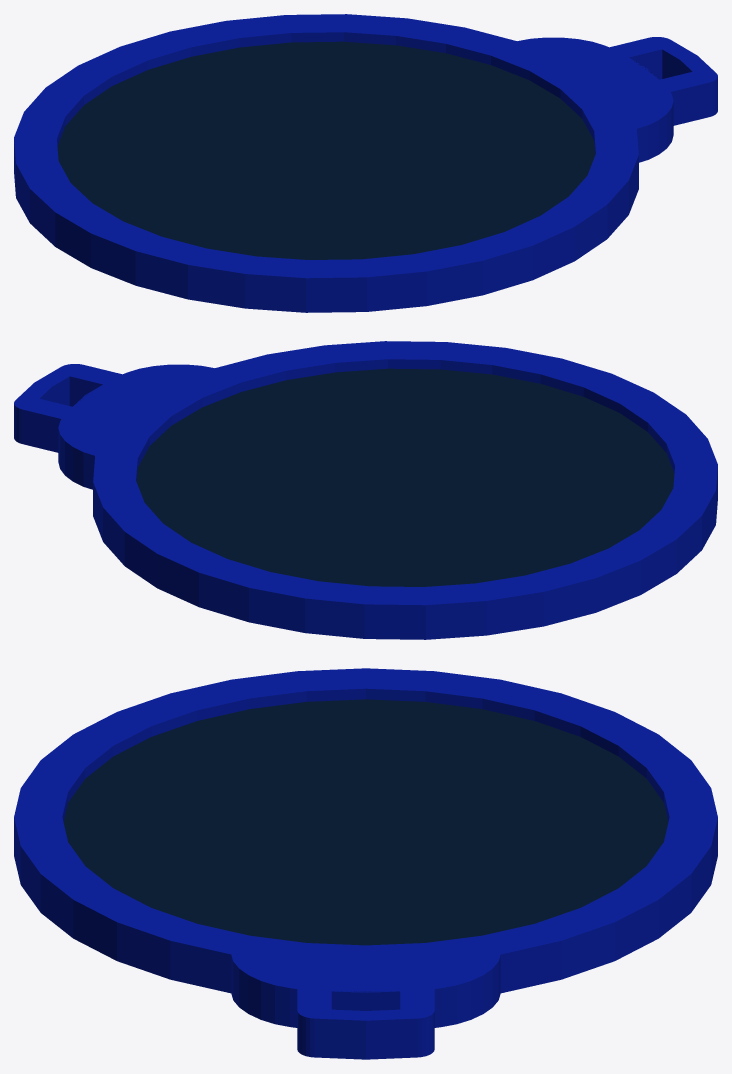
The model's file is llave magnetica.fbx.
3 renders of one model, top to bottom at view 1: azimuth 30°, elevation 25°; view 2: azimuth 150°, elevation 25°; view 3: azimuth 270°, elevation 25°, orthographic. The views are drawn at different scales.
Visible parts, largest first — view 1: Circle; view 2: Circle; view 3: Circle.
Part boxes in pixels (x1,y1,x2,y2): Circle: (14, 14, 717, 312); Circle: (14, 341, 717, 639); Circle: (14, 668, 717, 1059).
Bounding box in the file's own units: 237 × 12.21 × 200.
1 material, 1 textured.
